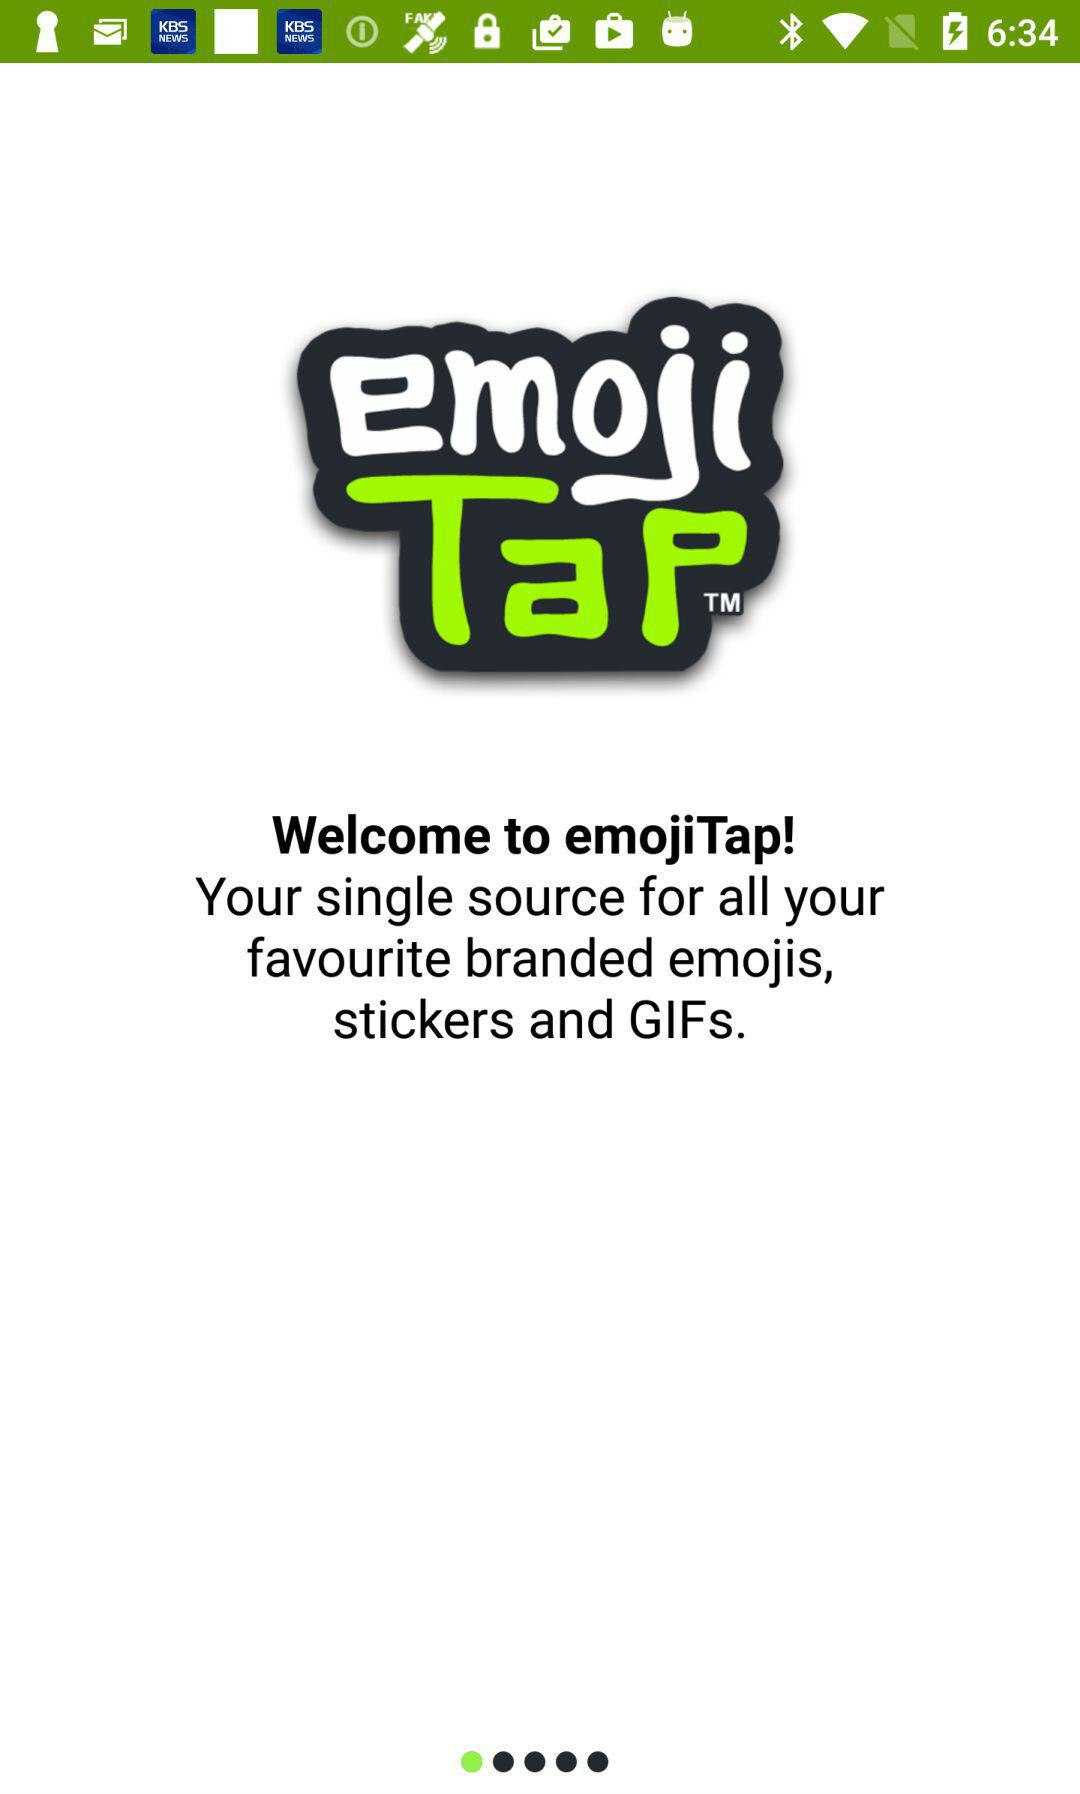Image: (297, 296, 785, 674)
PageIndicator: (461, 1750, 610, 1773)
Text: (195, 874, 887, 1042), (272, 812, 796, 866)
UpperTaskBar: (1, 1, 1080, 64)
